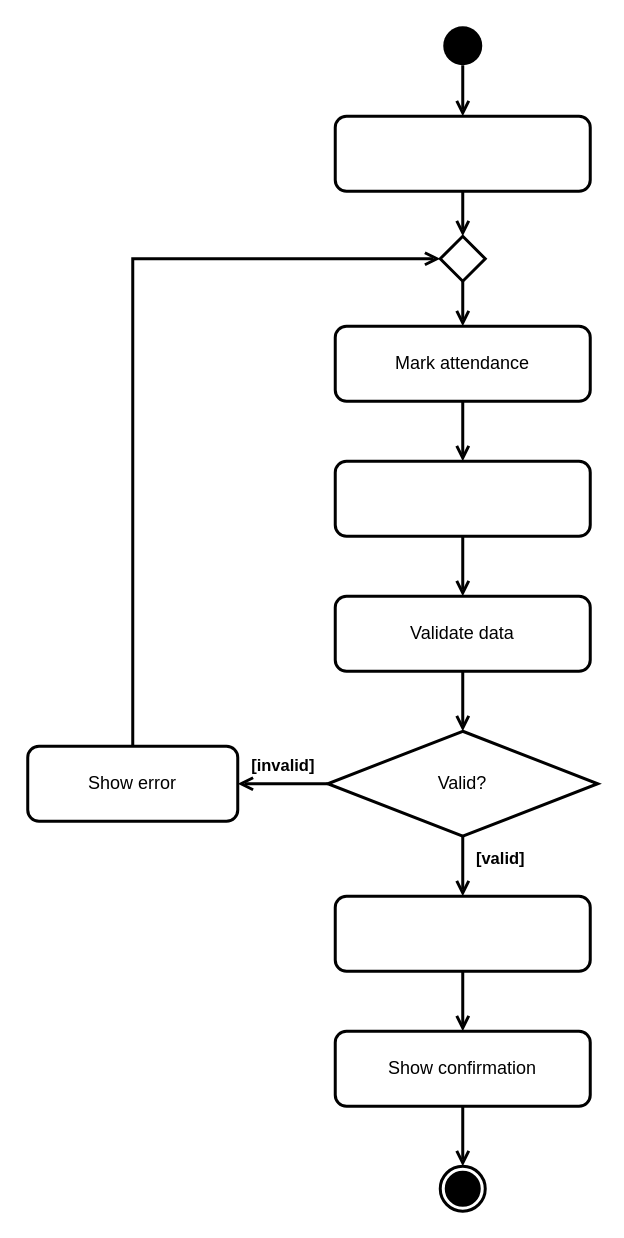
This 624x1238 diagram has some shape labels left out. The box of each missing label's shape, as (x1, y1, x2, y2) in pixels:
Save to database: (333, 894, 591, 972)
Select class & date: (333, 114, 591, 192)
Submit: (333, 459, 591, 537)
